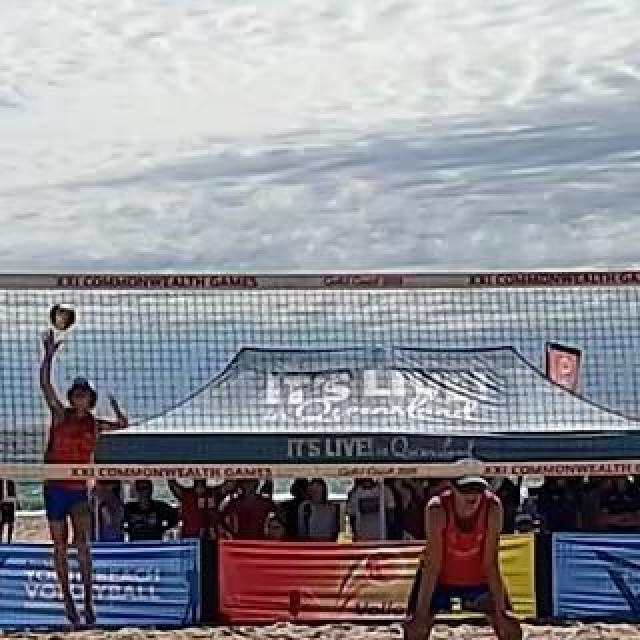volleyball: (50, 304, 76, 332)
